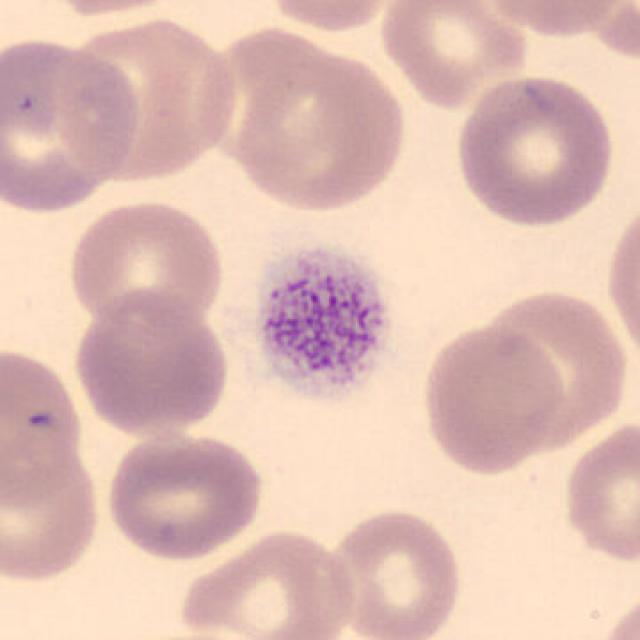Platelets: (244, 238, 400, 418)
RBC: (222, 34, 412, 215), (53, 9, 242, 187), (471, 284, 637, 451), (450, 71, 618, 229), (0, 32, 144, 215), (69, 287, 233, 439), (416, 321, 567, 478), (101, 428, 267, 564), (64, 196, 228, 333), (176, 525, 359, 640), (325, 504, 466, 640), (0, 421, 105, 587), (375, 0, 532, 111), (0, 342, 89, 510), (558, 416, 638, 568), (602, 195, 640, 365), (476, 0, 633, 41), (259, 0, 407, 35), (30, 0, 199, 19), (115, 627, 272, 640), (598, 589, 638, 640)
